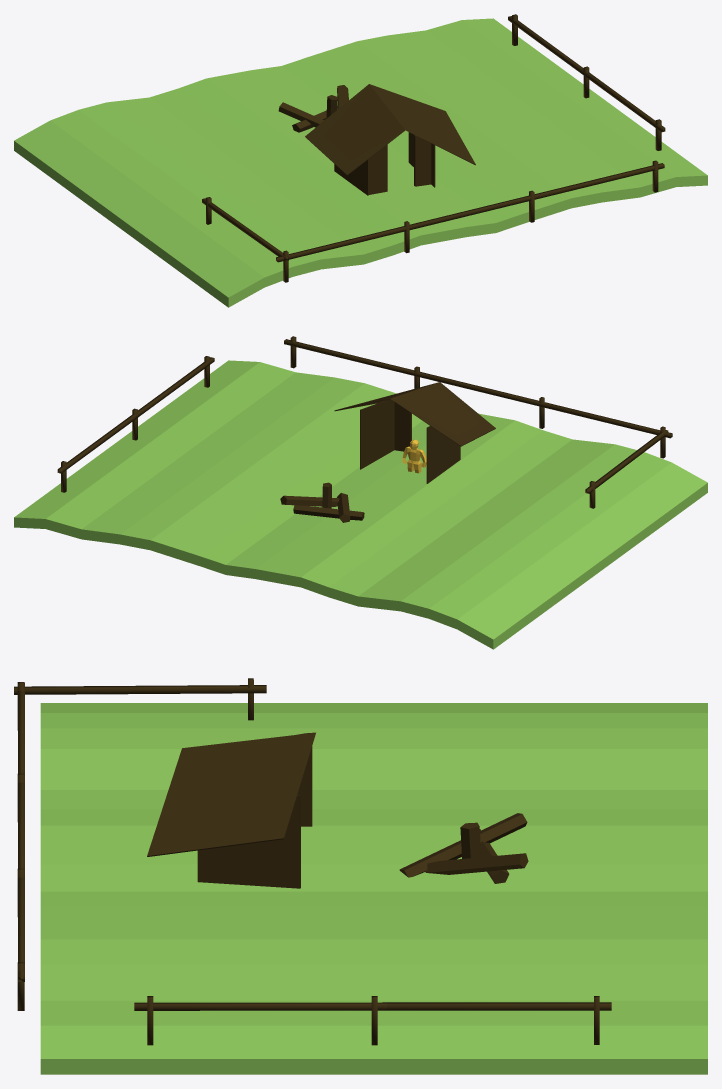
Rendered from farm.glb.
3 renders of one model, top to bottom at view 1: azimuth 30°, elevation 25°; view 2: azimuth 150°, elevation 25°; view 3: azimuth 270°, elevation 25°, orthographic. The views are drawn at different scales.
Parts seen in each view (by area): view 1: Cube.021, Cube.004, Cube.003, Cube.005, Cube.001, Cube.009, Cube.010, Cube.012, Cube.014, Cube.017, Cube.018, Cube; view 2: Cube.021, Cube.004, Cube.002, Cube, Cube.009, Cube.010, Cube.005, Cube.012, Cube.018, Cube.014, Cube.017, Cylinder (+1 smaller); view 3: Cube.021, Cube.003, Cube.002, Cube.014, Cube.017, Cube.018, Cylinder.001, Cylinder.003, Cube, Cylinder.002, Cube.009, Cube.010.
Boxes of the visible parts, bbox=[...] form: Cube.021: bbox=[14, 18, 707, 307]; Cube.004: bbox=[305, 84, 405, 175]; Cube.003: bbox=[369, 84, 475, 165]; Cube.005: bbox=[414, 135, 431, 186]; Cube.001: bbox=[368, 144, 387, 194]; Cube.009: bbox=[522, 163, 664, 201]; Cube.010: bbox=[397, 194, 539, 232]; Cube.012: bbox=[276, 223, 418, 262]; Cube.014: bbox=[202, 198, 288, 261]; Cube.017: bbox=[580, 68, 665, 132]; Cube.018: bbox=[508, 16, 589, 78]; Cube: bbox=[334, 159, 368, 195]; Cube.021: bbox=[14, 360, 707, 649]; Cube.004: bbox=[390, 382, 495, 446]; Cube.002: bbox=[360, 399, 394, 469]; Cube: bbox=[426, 426, 460, 483]; Cube.009: bbox=[284, 339, 426, 377]; Cube.010: bbox=[409, 369, 550, 408]; Cube.005: bbox=[394, 402, 411, 451]; Cube.012: bbox=[530, 403, 672, 438]; Cube.018: bbox=[57, 411, 142, 473]; Cube.014: bbox=[585, 430, 668, 493]; Cube.017: bbox=[130, 357, 214, 417]; Cylinder: bbox=[293, 505, 364, 520]; Cube.021: bbox=[40, 703, 707, 1074]; Cube.003: bbox=[147, 732, 315, 856]; Cube.002: bbox=[197, 795, 300, 888]; Cube.014: bbox=[14, 685, 266, 694]; Cube.017: bbox=[134, 1002, 386, 1010]; Cube.018: bbox=[387, 1002, 611, 1010]; Cylinder.001: bbox=[399, 813, 527, 877]; Cylinder.003: bbox=[425, 853, 528, 874]; Cube: bbox=[297, 746, 312, 826]; Cylinder.002: bbox=[460, 822, 481, 858]; Cube.009: bbox=[18, 870, 24, 981]; Cube.010: bbox=[18, 775, 24, 881].
Size of what is drawn, in the model's own units: 29.43 by 6.04 by 23.71.
